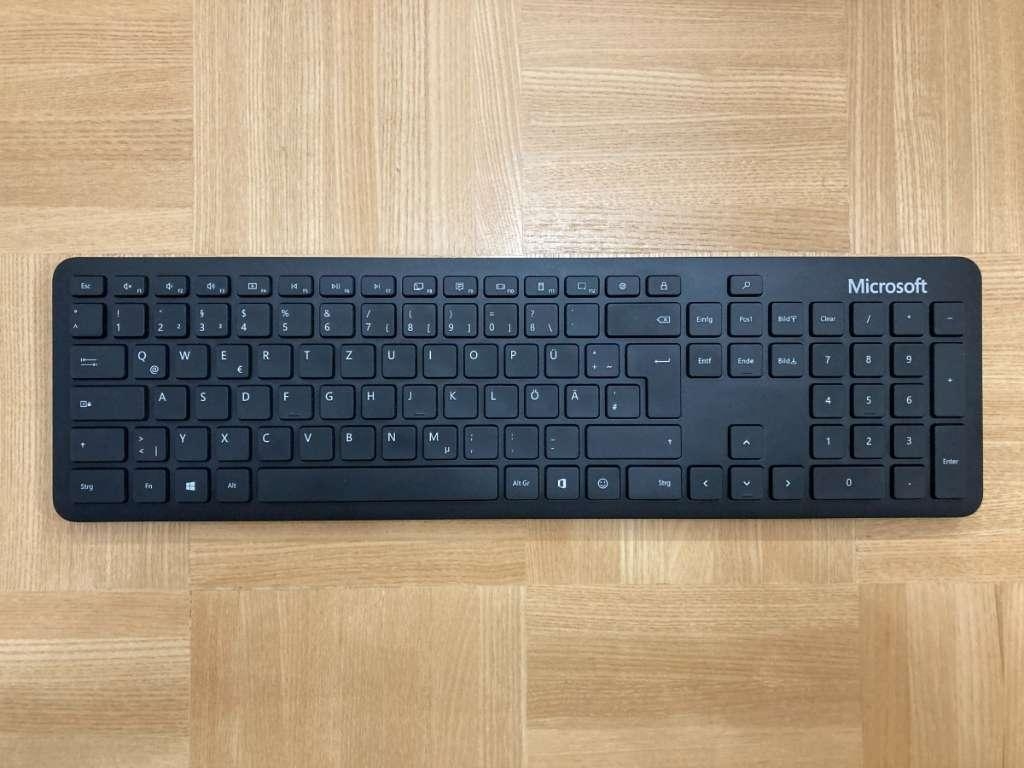0: (480, 300, 516, 335)
1: (108, 300, 143, 336)
2: (149, 300, 186, 335)
3: (193, 301, 230, 337)
4: (236, 301, 272, 336)
5: (277, 300, 313, 335)
6: (321, 300, 356, 335)
7: (358, 300, 393, 335)
8: (399, 300, 433, 335)
9: (440, 300, 475, 335)
a: (147, 381, 184, 418)
accent: (562, 300, 596, 335)
ae: (562, 381, 596, 416)
alt-left: (212, 464, 249, 500)
altgr-right: (502, 462, 538, 498)
b: (336, 422, 372, 458)
c: (252, 422, 289, 459)
caret: (66, 301, 101, 335)
comma: (461, 422, 496, 458)
d: (232, 381, 268, 418)
del: (603, 298, 679, 335)
e: (210, 340, 247, 377)
enter: (624, 339, 679, 416)
f: (274, 381, 310, 417)
g: (316, 381, 352, 417)
h: (358, 381, 393, 417)
hash: (603, 380, 636, 416)
i: (420, 340, 455, 376)
j: (399, 381, 434, 417)
k: (440, 381, 475, 417)
keyboard: (41, 251, 988, 523)
l: (481, 381, 515, 416)
less: (128, 422, 164, 459)
m: (419, 421, 455, 458)
minus: (541, 421, 577, 457)
n: (377, 422, 414, 458)
o: (460, 340, 496, 376)
oe: (521, 380, 556, 416)
p: (501, 340, 537, 376)
plus: (582, 339, 617, 376)
point: (501, 421, 537, 457)
q: (127, 340, 165, 377)
r: (252, 340, 289, 376)
s: (189, 381, 226, 418)
shift-left: (65, 423, 122, 460)
shift-lock: (66, 381, 143, 418)
shift-right: (583, 420, 680, 457)
space: (254, 462, 496, 500)
ss: (521, 300, 556, 335)
strg-left: (60, 464, 123, 502)
strg-right: (624, 462, 683, 498)
t: (294, 339, 331, 376)
tab: (65, 340, 123, 377)
u: (378, 340, 414, 377)
ue: (541, 340, 577, 376)
v: (295, 422, 331, 458)
w: (169, 339, 205, 377)
x: (210, 423, 247, 459)
y: (171, 423, 205, 459)
z: (337, 340, 373, 377)
